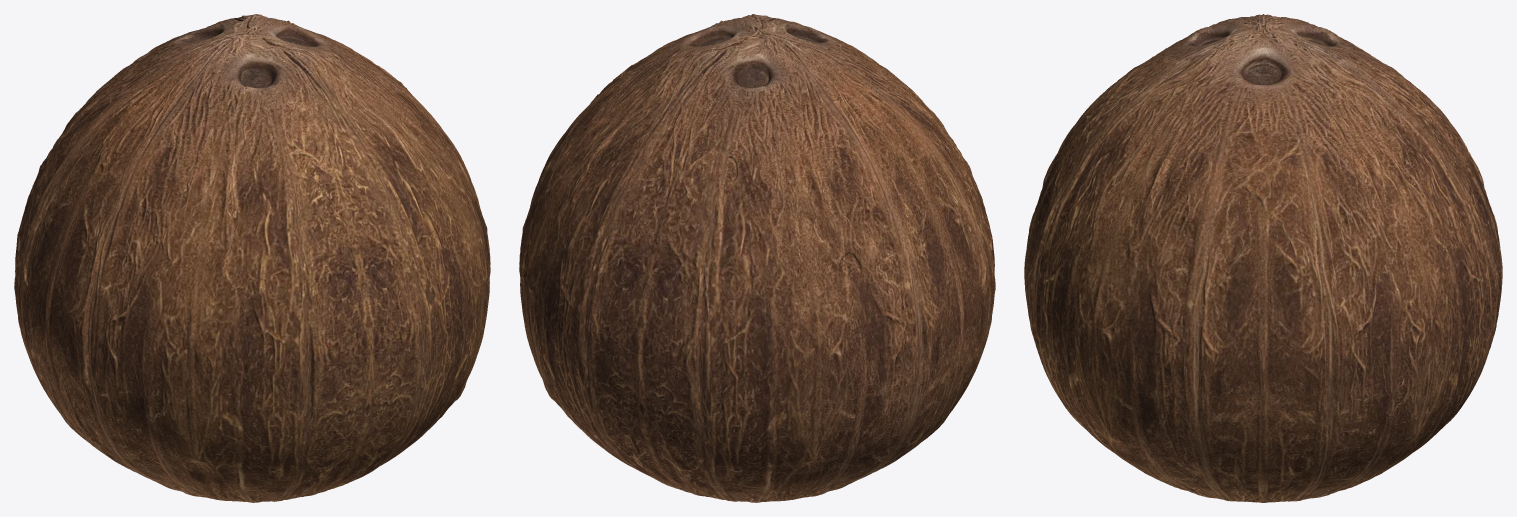
Rendered from kokos.glb.
3 views of the same model, side by side, from view 1: azimuth 30°, elevation 25°; view 2: azimuth 150°, elevation 25°; view 3: azimuth 270°, elevation 25° (orthographic).
Parts seen in each view (by area): view 1: Mesh_0; view 2: Mesh_0; view 3: Mesh_0.
Boxes of the visible parts, x1,y1,x2,y2 form: Mesh_0: (14, 14, 490, 502); Mesh_0: (519, 14, 995, 502); Mesh_0: (1024, 14, 1502, 502).
Size of the model in its own units: 1.81 by 1.9 by 1.81.
1 material, 1 textured.
